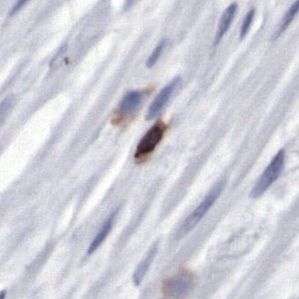Lymphocyte: (136, 125, 162, 157)
